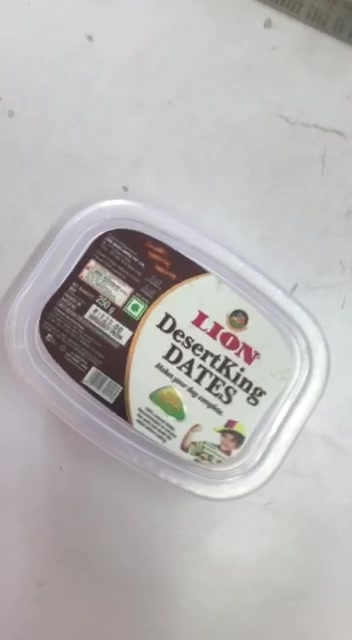Lion dates: (5, 198, 330, 498)
